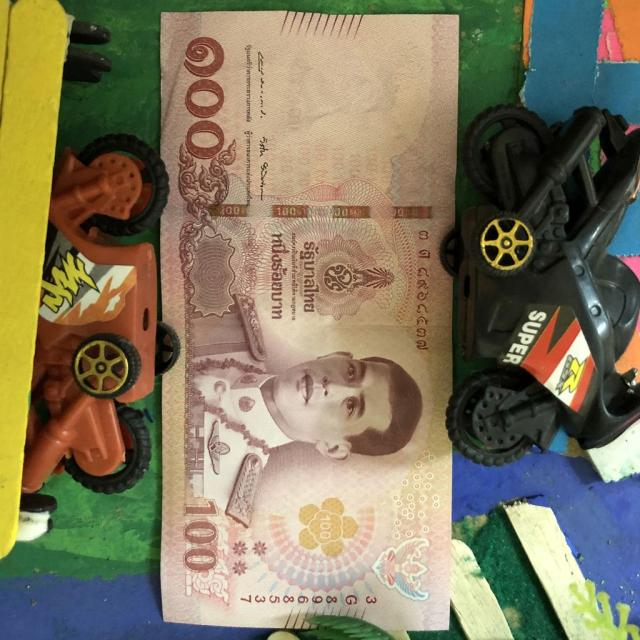THAI100: (161, 11, 458, 630)
